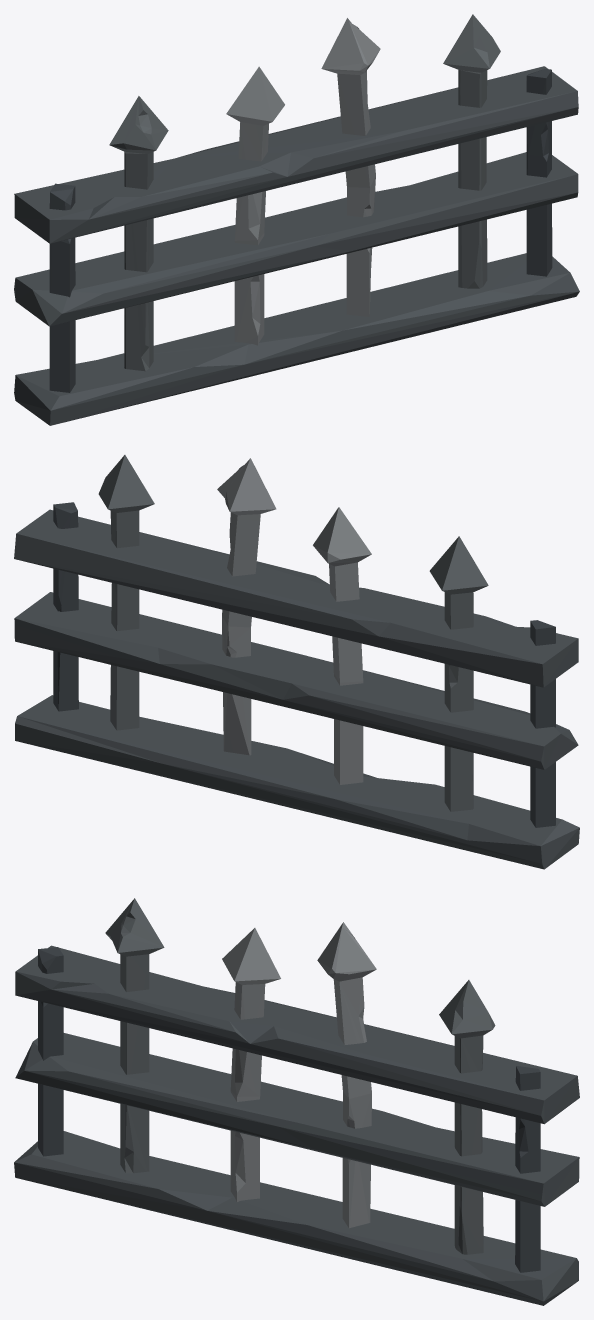
Rendered from Fence2.FBX.
3 views of the same model, one above another, from view 1: azimuth 30°, elevation 25°; view 2: azimuth 150°, elevation 25°; view 3: azimuth 330°, elevation 25° (orthographic).
Visible parts, largest first — view 1: Box31; view 2: Box31; view 3: Box31.
Boxes of the visible parts, bbox=[...] form: Box31: bbox=[14, 14, 579, 425]; Box31: bbox=[14, 455, 579, 869]; Box31: bbox=[14, 898, 579, 1305].
Size of the model in its own units: 161 by 93.53 by 20.51.
